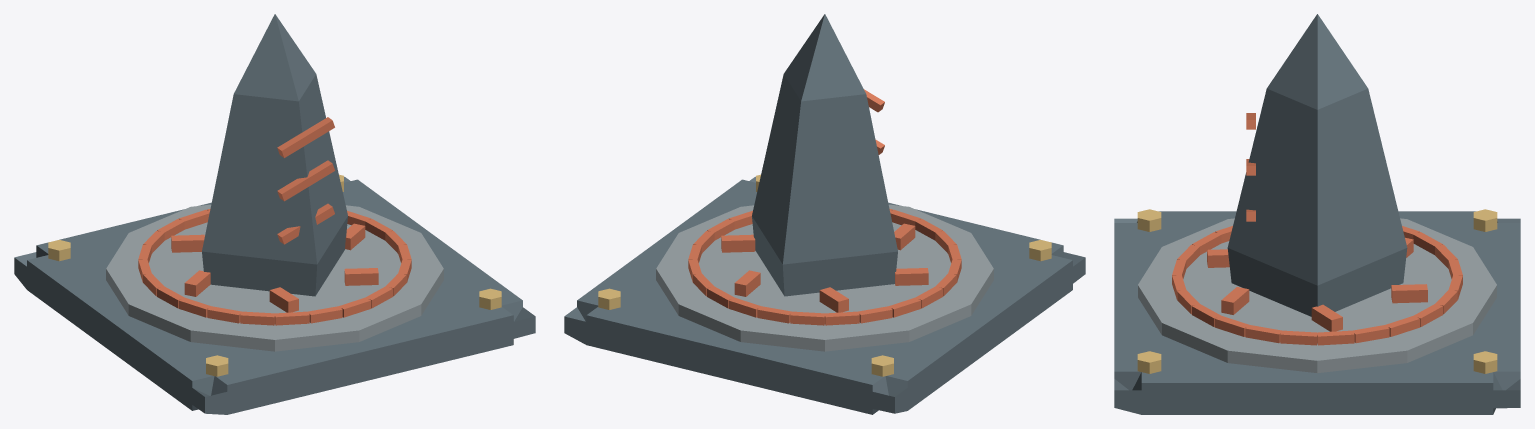
File: TrapWitheringHex.fbx
The picture shows the model from 3 angles, left to right: view 1: azimuth 30°, elevation 25°; view 2: azimuth 150°, elevation 25°; view 3: azimuth 270°, elevation 25°; orthographic projection. The views are drawn at different scales.
Visible parts, largest first — view 1: TrapWitheringHex.002; view 2: TrapWitheringHex.002; view 3: TrapWitheringHex.002.
Boxes of the visible parts, bbox=[...] form: TrapWitheringHex.002: bbox=[14, 14, 535, 414]; TrapWitheringHex.002: bbox=[564, 14, 1085, 414]; TrapWitheringHex.002: bbox=[1114, 14, 1520, 414].
Bounding box in the file's own units: 104 × 89 × 104.
